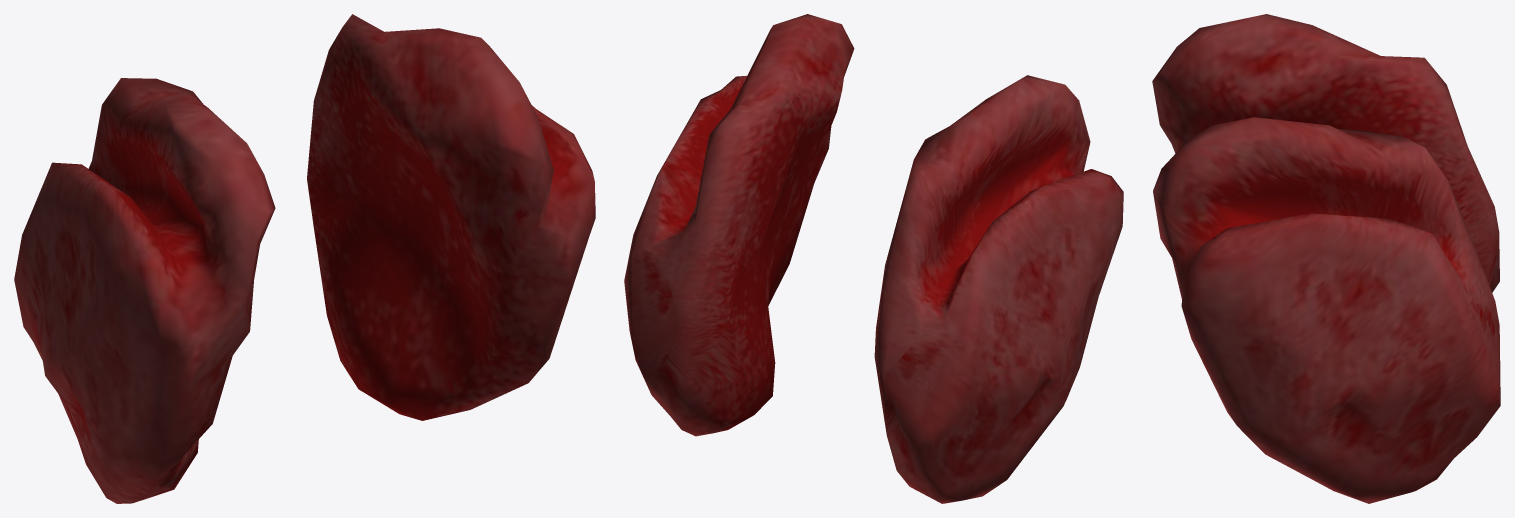
Rendered from Gutteral_Pouches.glb.
3 views of the same model, side by side, from view 1: azimuth 30°, elevation 25°; view 2: azimuth 150°, elevation 25°; view 3: azimuth 270°, elevation 25° (orthographic). The views are drawn at different scales.
Parts seen in each view (by area): view 1: gutteral_pouch.001; view 2: gutteral_pouch.001; view 3: gutteral_pouch.001.
Part boxes in pixels (x1,y1,x2,y2): gutteral_pouch.001: (14, 14, 595, 503); gutteral_pouch.001: (624, 14, 1123, 503); gutteral_pouch.001: (1152, 14, 1500, 503).
Size of the model in its own units: 0.1294 by 0.1176 by 0.0988.
1 material, 1 textured.
